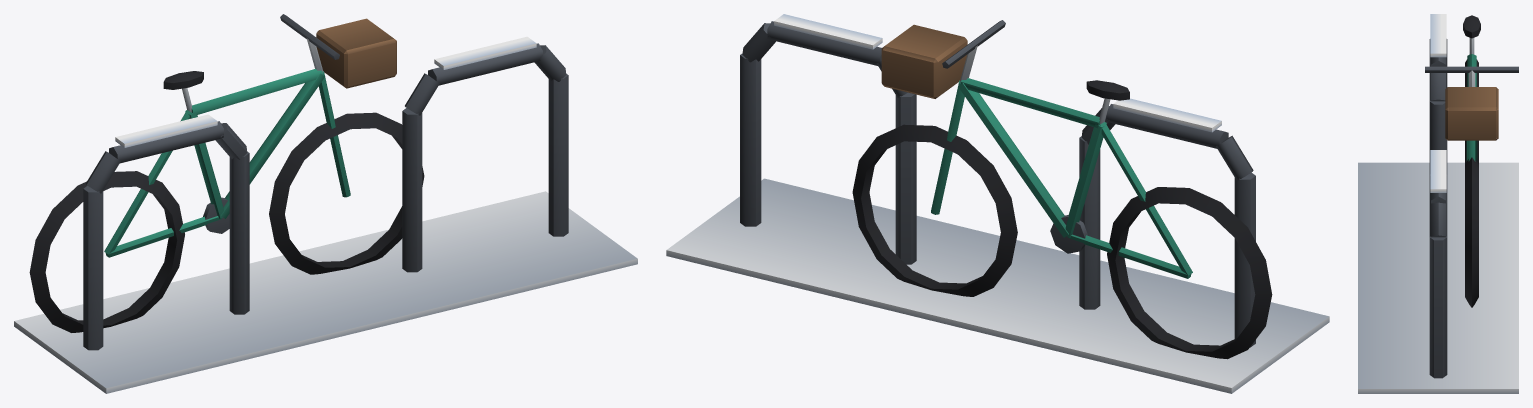
The model's file is ck_bike_rack.fbx.
The picture shows the model from 3 angles, left to right: view 1: azimuth 30°, elevation 25°; view 2: azimuth 150°, elevation 25°; view 3: azimuth 270°, elevation 25°; orthographic projection. The views are drawn at different scales.
Visible parts, largest first — view 1: ck_bike_rack; view 2: ck_bike_rack; view 3: ck_bike_rack.
Boxes of the visible parts, <box> form: ck_bike_rack: <box>14,14,637,393</box>; ck_bike_rack: <box>666,14,1329,393</box>; ck_bike_rack: <box>1358,14,1518,393</box>.
Size of the model in its own units: 390 by 173 by 115.
